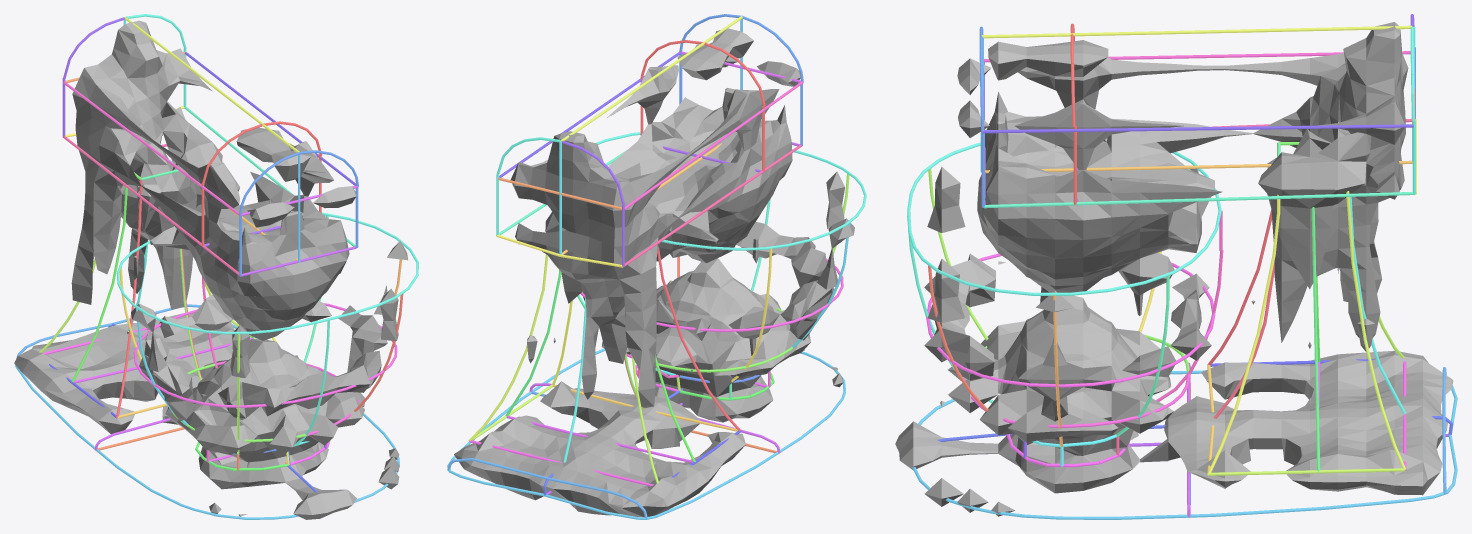
File: t2f_blender.gltf
3 views of the same model, side by side, from view 1: azimuth 30°, elevation 25°; view 2: azimuth 150°, elevation 25°; view 3: azimuth 270°, elevation 25° (orthographic). The views are drawn at different scales.
Bounding box in the file's own units: 0.4821 × 0.5988 × 0.6906.
